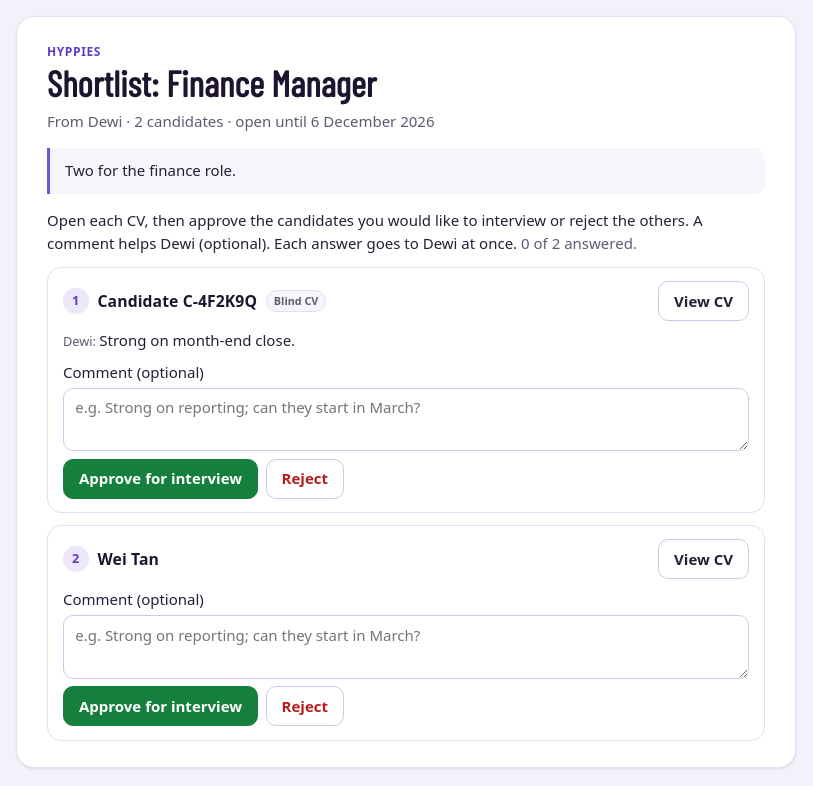
Scenario: client shortlist page › shows the candidates and sends the client's answer with the comment
Expected: the heading "Shortlist: Finance Manager" is shown, [47,61,376,104]
Expected: the text "Two for the finance role." is shown, [47,148,765,194]
Type "Let's meet." into the text box labelled "Comment (optional)" below "Candidate C-4F2K9Q".
click(406, 420); type("Let's meet.")  # box [63,388,749,451]
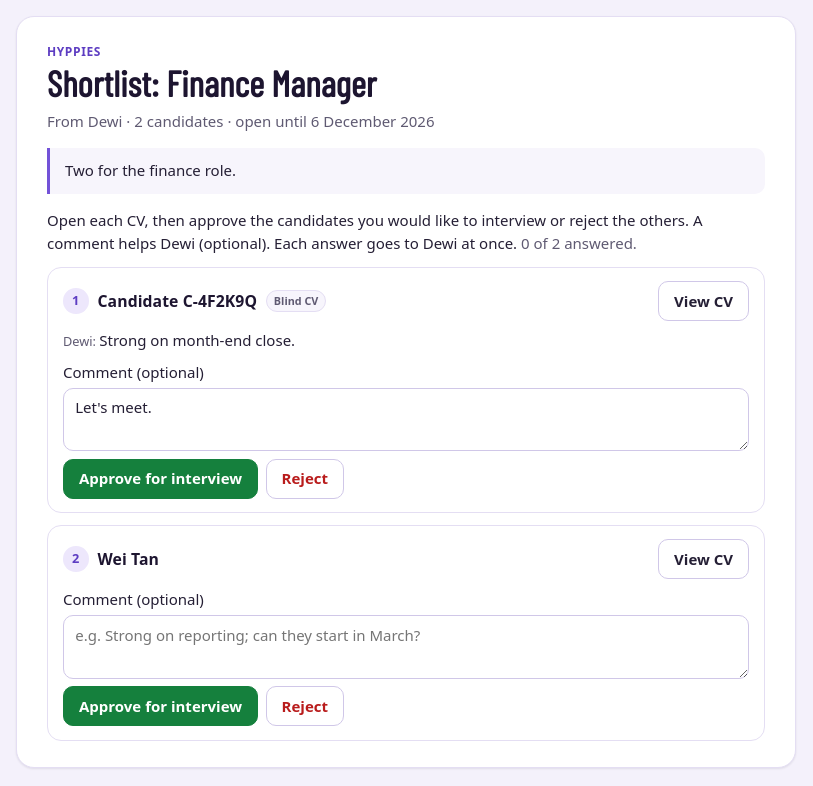
Click the button "Approve for interview" below "Candidate C-4F2K9Q".
click(161, 479)  # box [63,459,258,499]
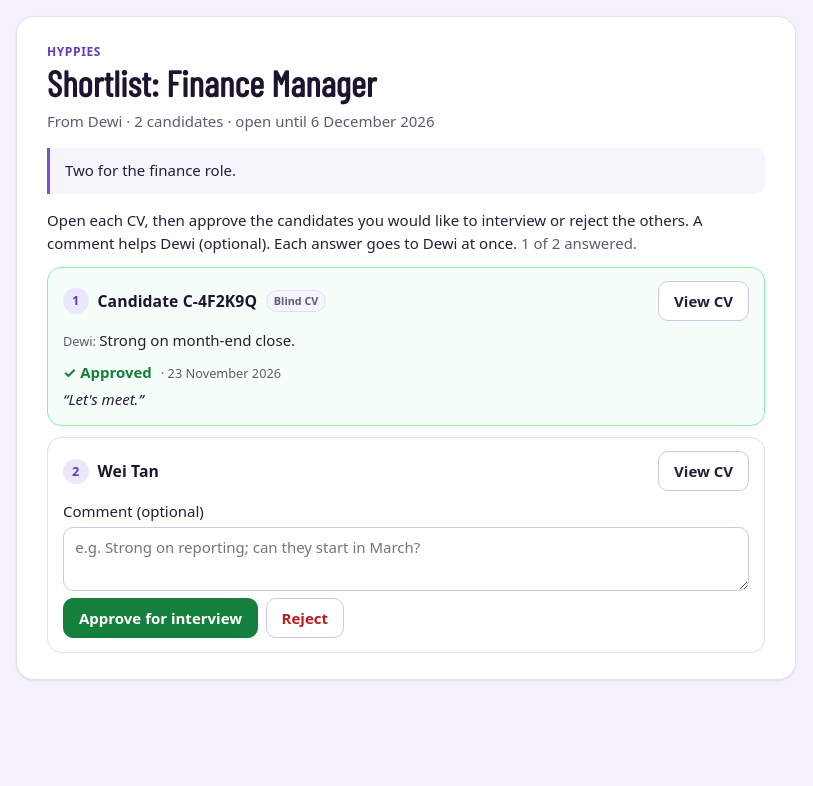
Result: the text "✓ Approved" is shown at [63,361,152,384]
Result: the text "“Let's meet.”" is shown at [63,389,144,409]
Result: the text "1 of 2 answered." is shown at [521,233,637,253]
